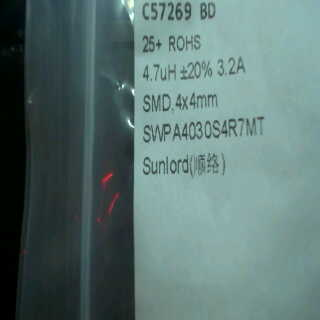4.7uH: (139, 58, 180, 86)
